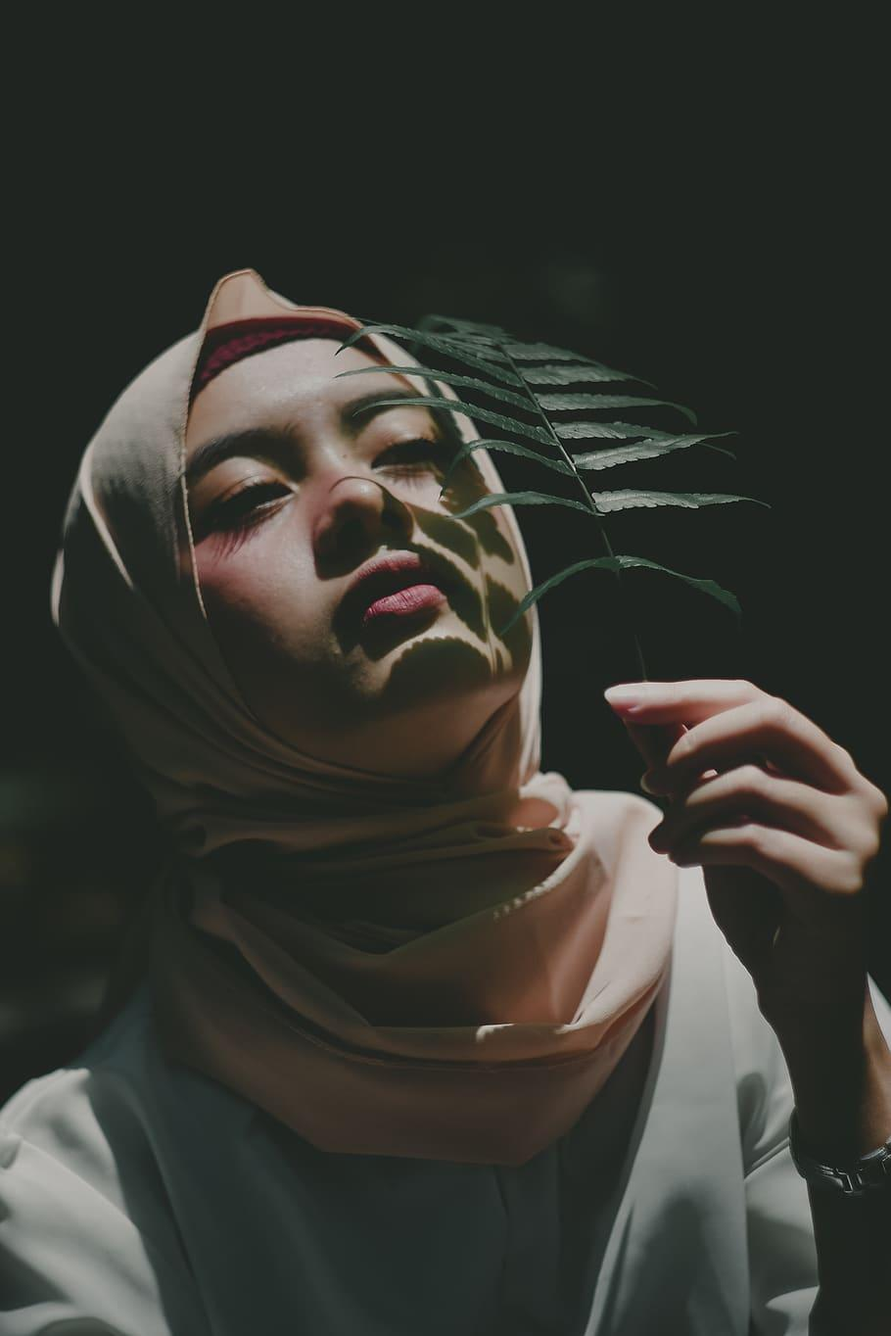scarf-kerchief: (0, 165, 623, 862)
